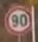limite 90: (3, 4, 34, 35)
